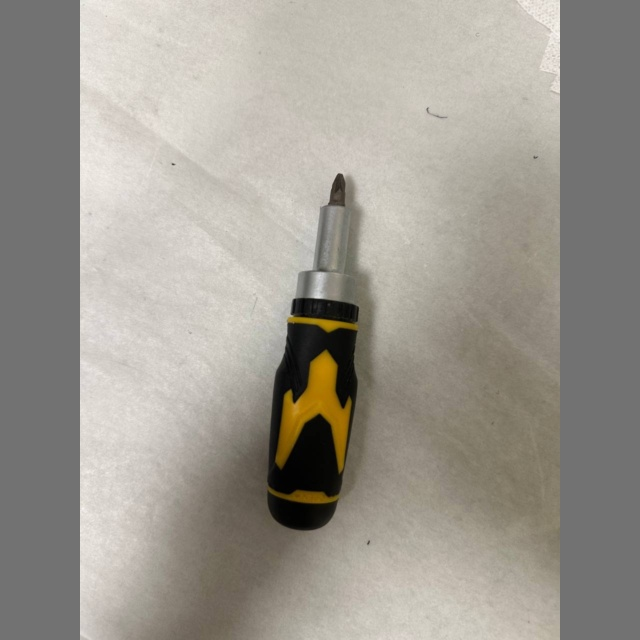screwdriver: (267, 174, 359, 530)
